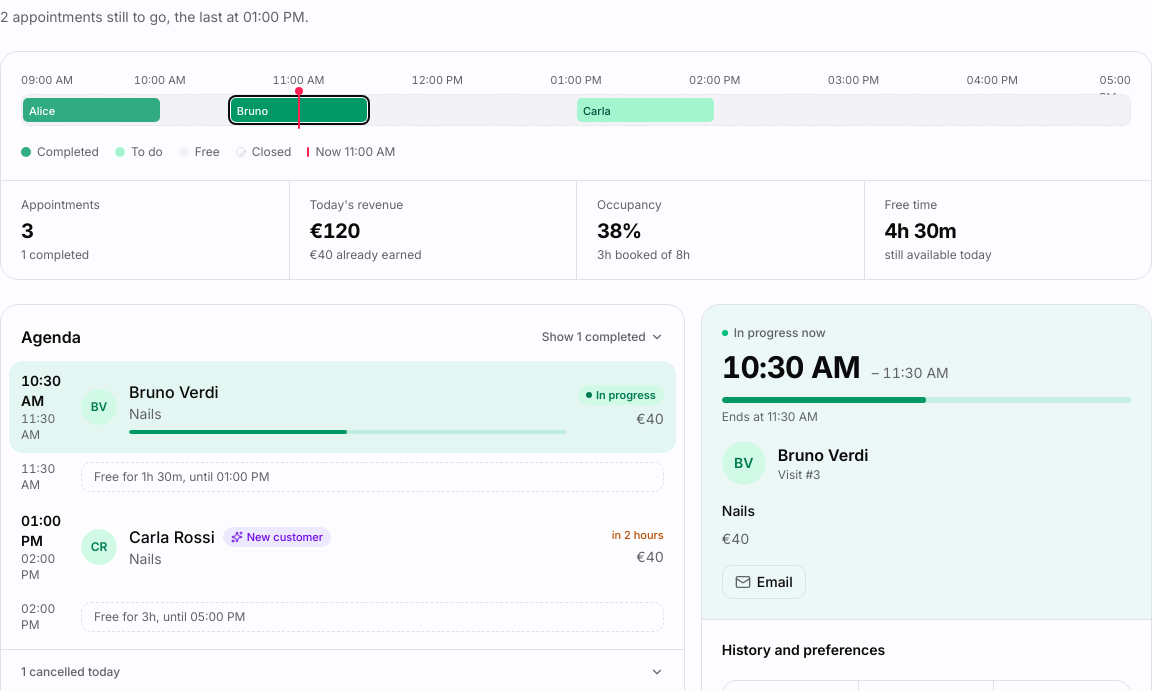
Test: WidgetToday › lists what's left with free time between, folding completed and cancelled away
expect the text "Alice Bianchi" is not shown: met
expect the text "Free for 1h 30m, until 01:00 PM" is shown: met, box [81,462,664,492]
Click the button "Show 1 completed".
click(603, 337)  # box [542,329,664,345]
(page scrolled)
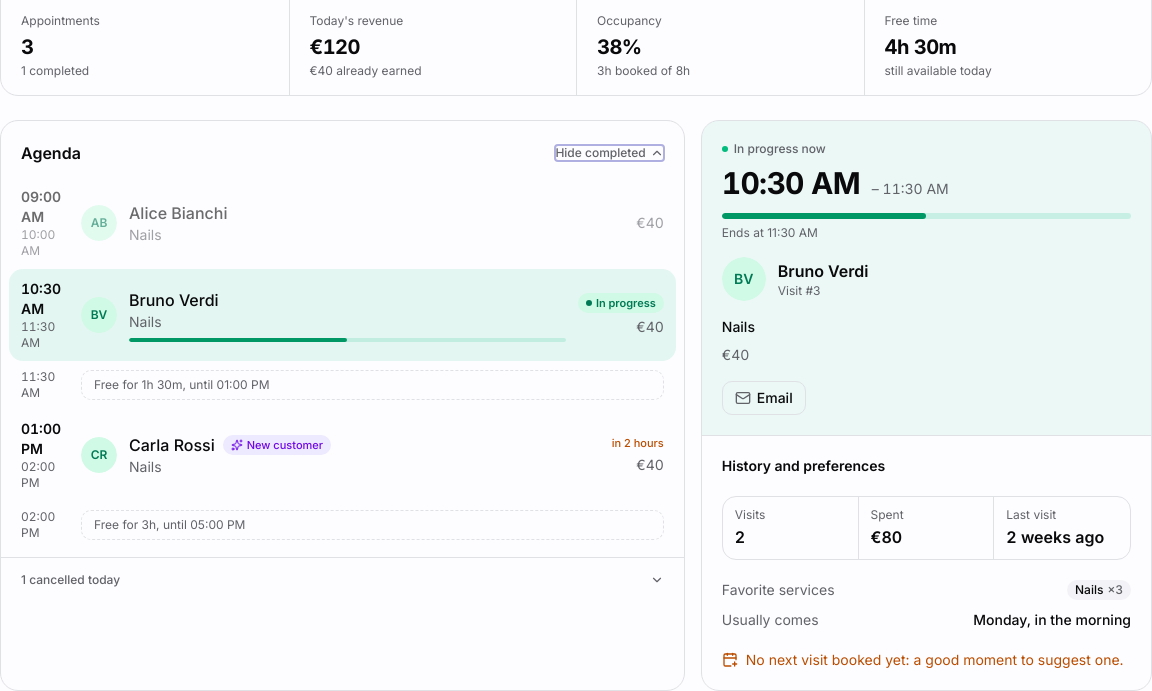
expect the text "Dan Neri" is not shown: met
expect the text "Alice Bianchi" is shown: met, box [129,201,228,225]
Click the button "1 cancelled today".
click(71, 580)  # box [9,566,676,594]
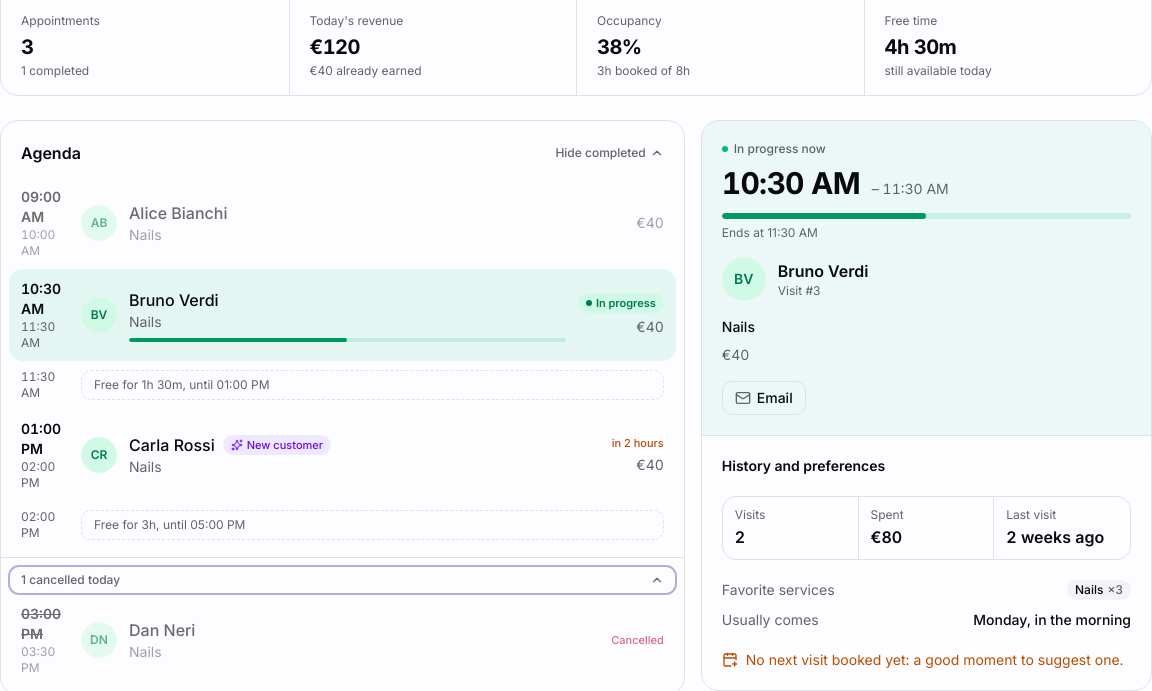
expect the text "Dan Neri" is shown: met, box [129,618,195,642]
